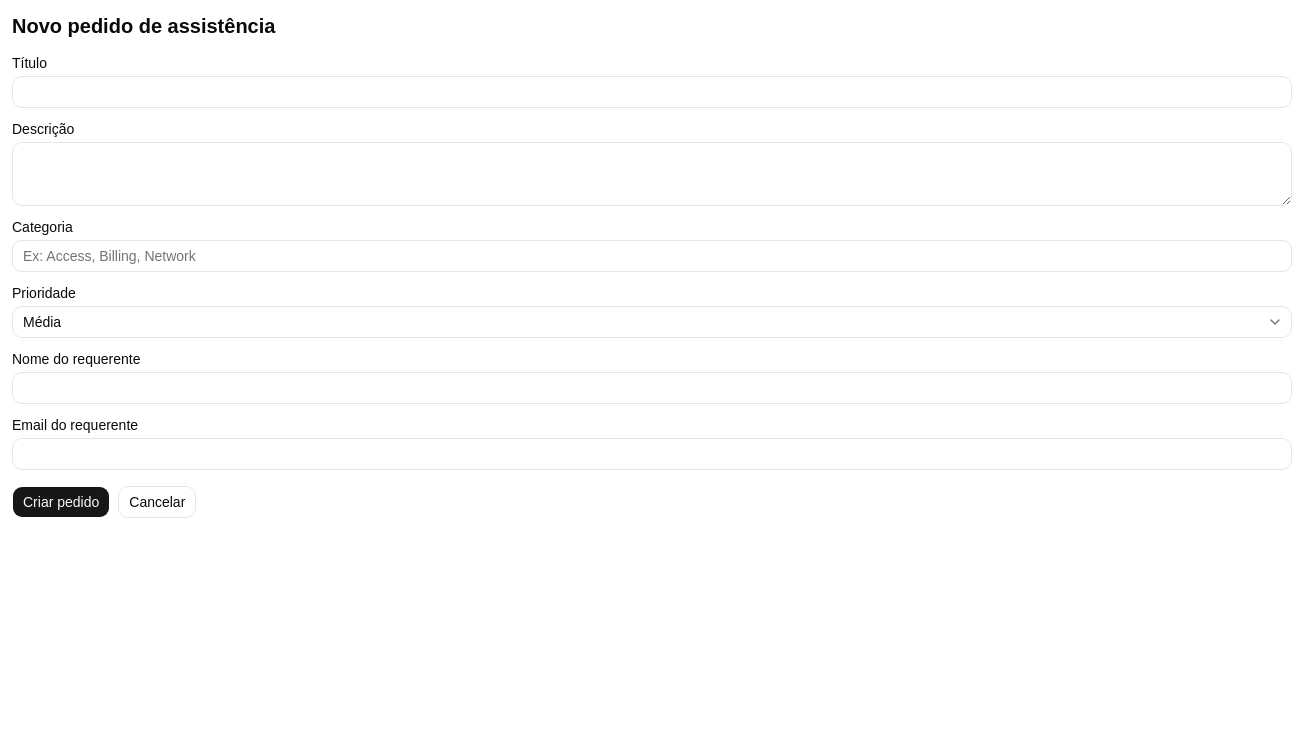
Scenario: NewRequestPage › shows client-side validation errors and does not submit when fields are invalid
Click the button "Criar pedido" at (61, 502), box [12,486,110,518]
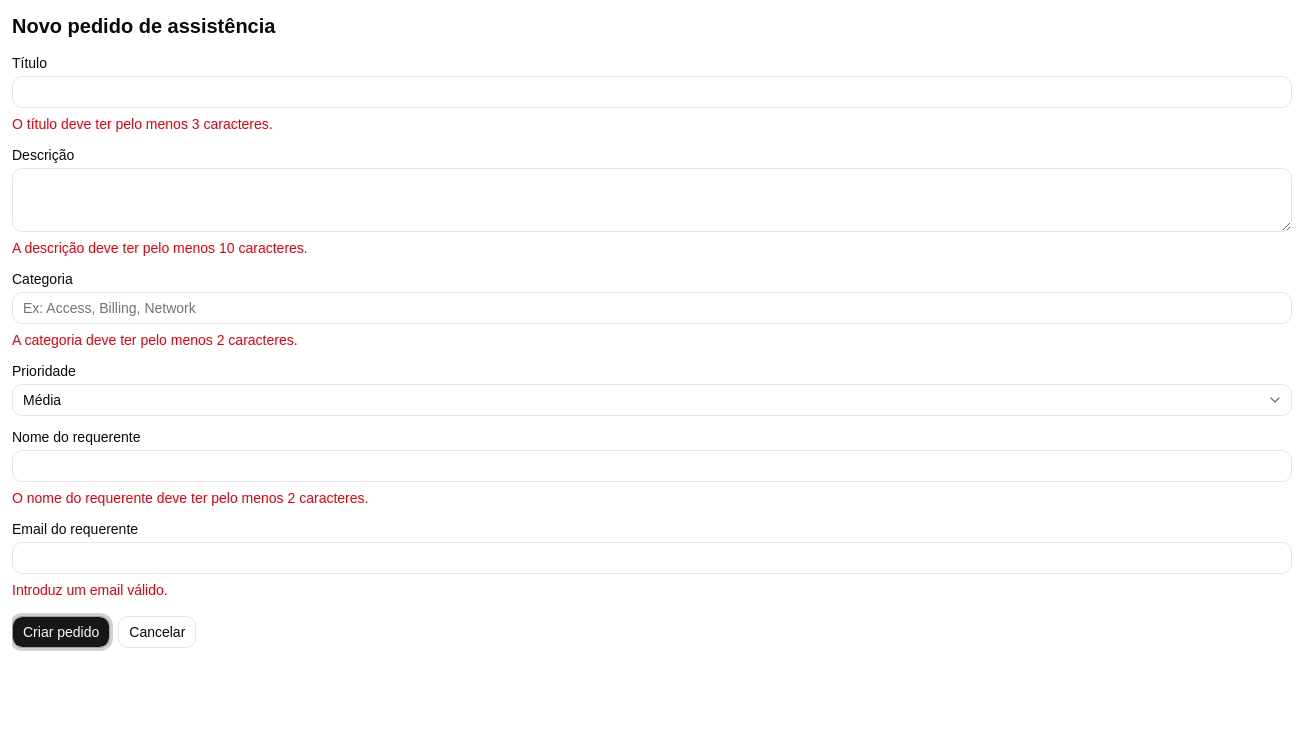
Check: the text "O título deve ter pelo menos 3 caracteres." is shown, box [12,116,273,132]
Check: the text "A descrição deve ter pelo menos 10 caracteres." is shown, box [12,240,308,256]
